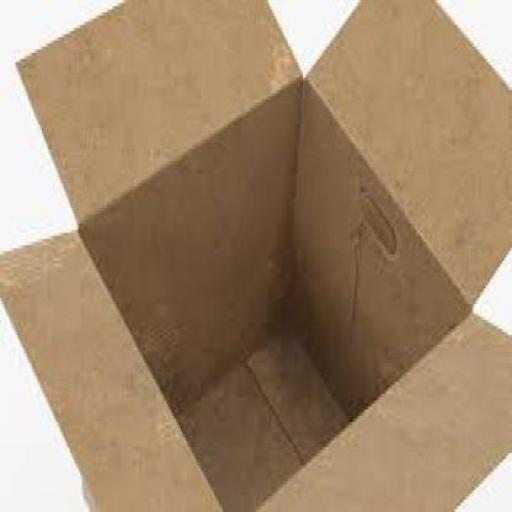cardboard: (0, 0, 511, 510), (14, 0, 299, 224), (303, 0, 511, 304), (0, 226, 222, 510), (244, 310, 510, 510)
